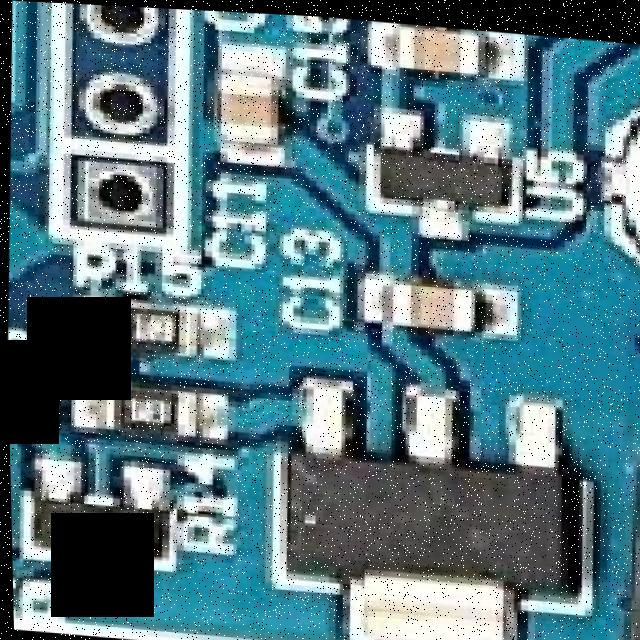4439: (12, 455, 161, 572), (362, 113, 511, 218)
IC: (263, 390, 606, 640)
capacitor 1V5: (210, 59, 284, 146), (372, 271, 481, 329), (390, 18, 495, 74)
resistor IR1: (88, 294, 205, 352), (95, 379, 202, 437)
